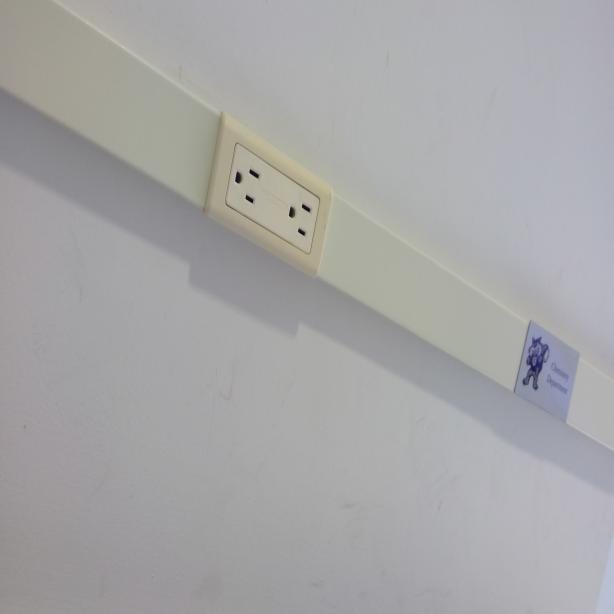typeb: (228, 155, 267, 221), (285, 185, 320, 243)
